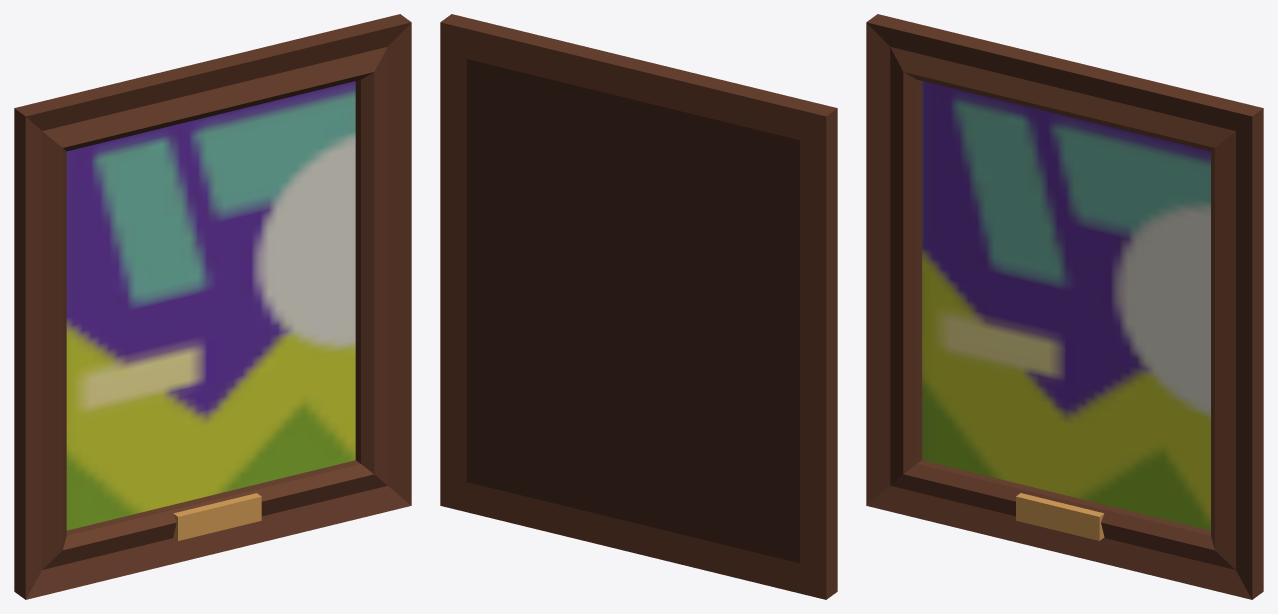
The model's file is SM_Prop_Art_Frame_04.obj.
3 renders of one model, left to right at view 1: azimuth 30°, elevation 25°; view 2: azimuth 150°, elevation 25°; view 3: azimuth 330°, elevation 25°, orthographic.
Parts seen in each view (by area): view 1: SM_Prop_Art_Frame_04_0; view 2: SM_Prop_Art_Frame_04_0; view 3: SM_Prop_Art_Frame_04_0.
Part boxes in pixels (x1,y1,x2,y2): SM_Prop_Art_Frame_04_0: (14, 14, 411, 599); SM_Prop_Art_Frame_04_0: (440, 14, 837, 599); SM_Prop_Art_Frame_04_0: (866, 14, 1263, 599).
Bounding box in the file's own units: 1.06 × 1.27 × 0.0609.
1 material, 1 textured.
